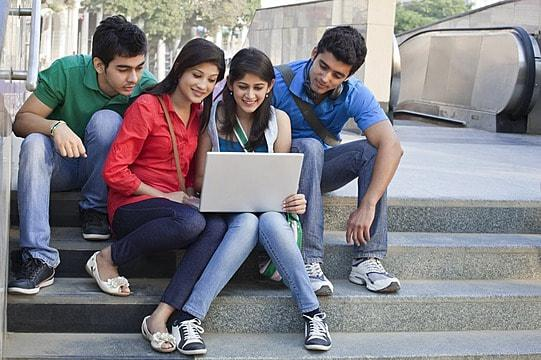hairnetless: (178, 27, 288, 102), (294, 4, 382, 96), (83, 3, 159, 105), (234, 41, 295, 133), (185, 41, 230, 105), (253, 108, 290, 109)
maskless: (311, 57, 345, 107), (178, 78, 225, 105), (114, 70, 148, 93), (238, 91, 271, 113)
